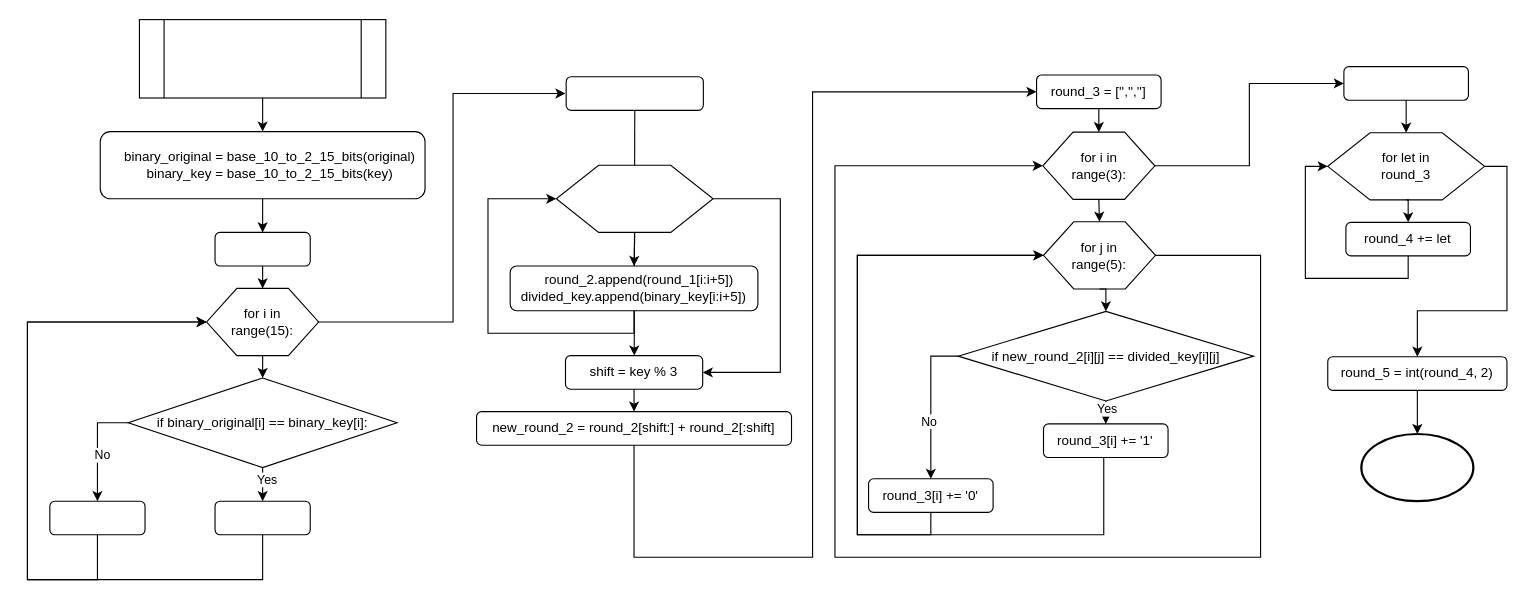
The diagram is 1536 pixels wide and 608 high, and some of its shapes have lost their labels. The box of each missing label's shape, as (x1, y1, x2, y2) in pixels:
def encrypt(original:int, key:int):: (138, 18, 386, 98)
for i in range(0, 15, 5): (555, 164, 713, 232)
return round_5: (1360, 432, 1474, 502)
round_1 += '0': (214, 500, 310, 535)
round_1 += '1': (49, 500, 145, 535)
round_1 = '': (214, 231, 310, 266)
round_2 = [] divided_key = []: (565, 76, 703, 110)
round_4 = '': (1343, 66, 1468, 100)
